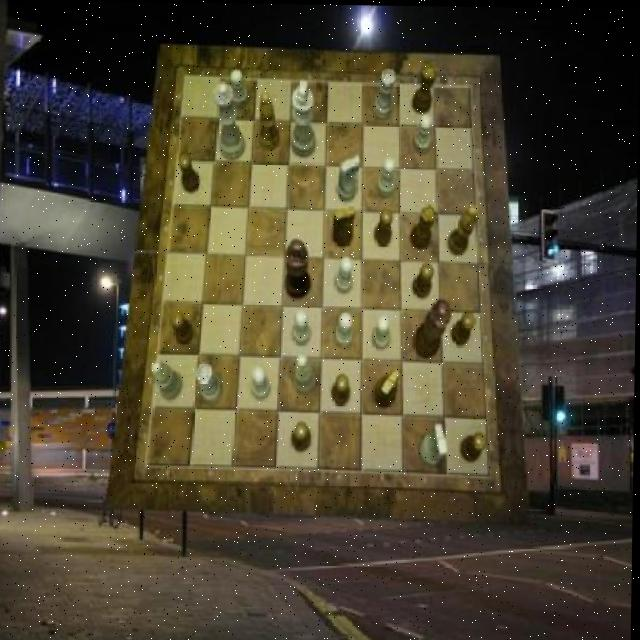bishop: (448, 204, 479, 255), (260, 91, 280, 150)
black-bishop: (286, 239, 313, 297)
black-king: (374, 368, 401, 406), (334, 207, 358, 247)
black-knight: (452, 310, 476, 344), (172, 311, 195, 345), (181, 153, 201, 192), (463, 432, 489, 461), (414, 262, 435, 296), (293, 420, 314, 452), (376, 208, 394, 245), (334, 373, 352, 406)
black-pawn: (415, 299, 453, 359)
black-queen: (411, 203, 438, 249), (413, 63, 436, 113)
black-rook: (152, 360, 183, 399), (294, 352, 317, 393)
white-bishop: (292, 79, 317, 156)
white-king: (421, 422, 449, 465), (338, 155, 361, 201)
white-knight: (231, 69, 249, 108), (252, 364, 272, 399), (414, 112, 431, 153), (378, 157, 396, 195), (335, 255, 353, 292), (293, 308, 311, 344), (336, 312, 354, 348), (375, 314, 393, 348)
white-pawn: (215, 81, 247, 159)
white-queen: (374, 67, 396, 119), (198, 362, 225, 403)
